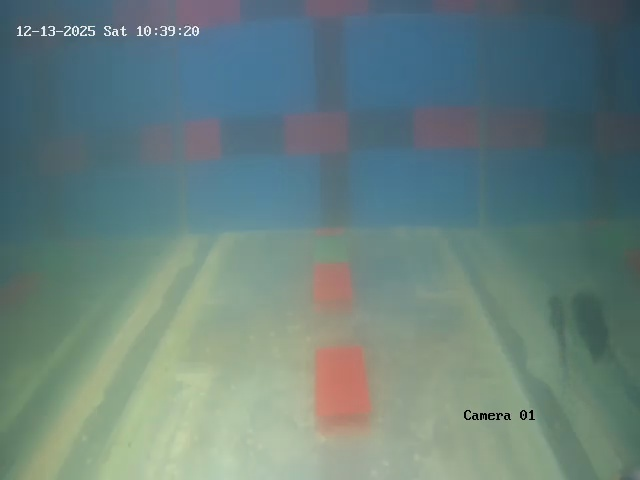fish: (538, 286, 572, 375)
